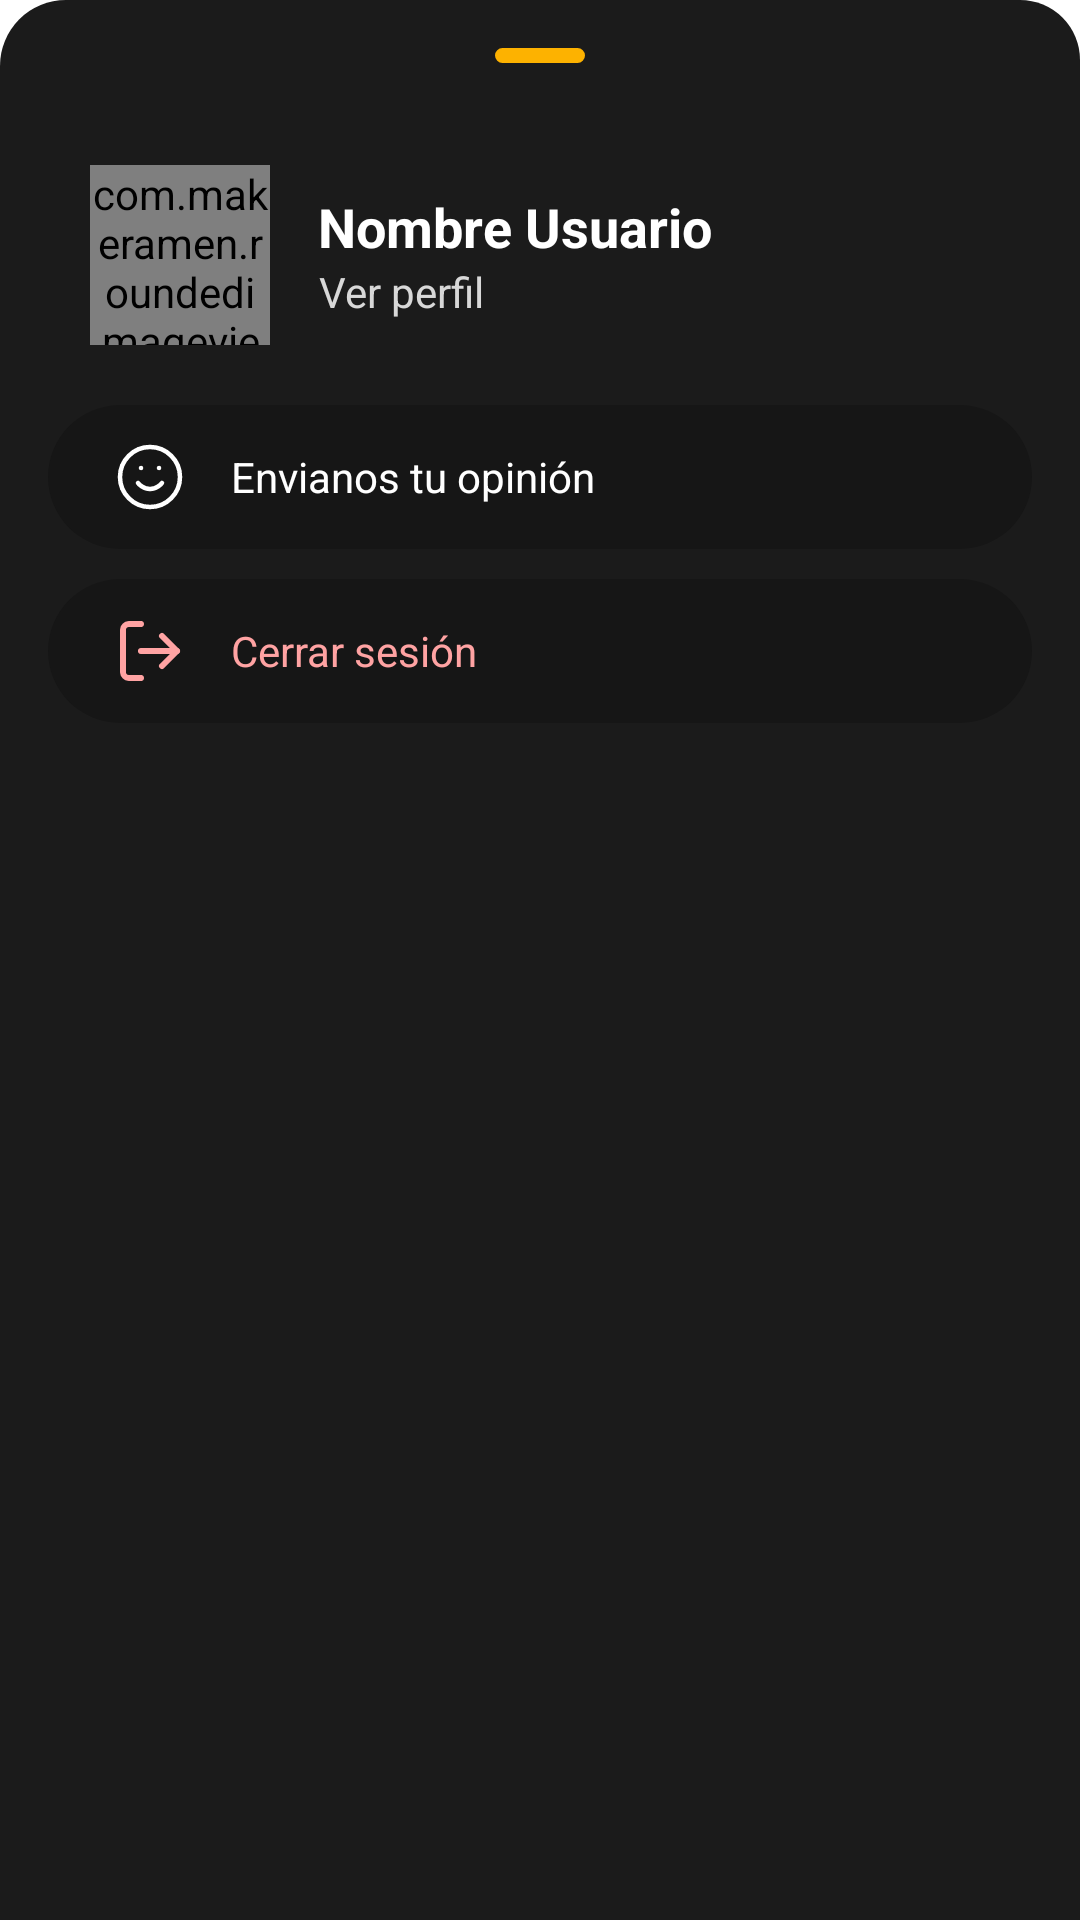

Icon click points for this 1080*1920 phone screenshot, format (x=x, y=y):
log out: (x=150, y=651)
smile: (x=150, y=477)
